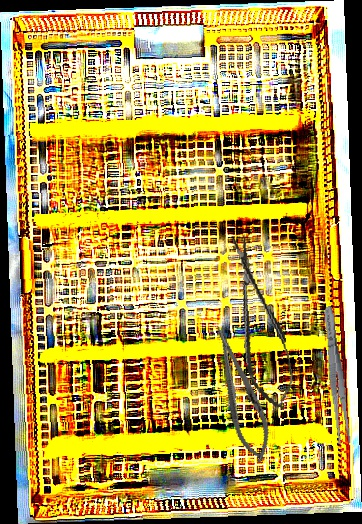Dressing Forceps: (319, 305, 354, 445)
Micro Scissor: (222, 230, 299, 415)
Needle Holder: (203, 320, 280, 467)
